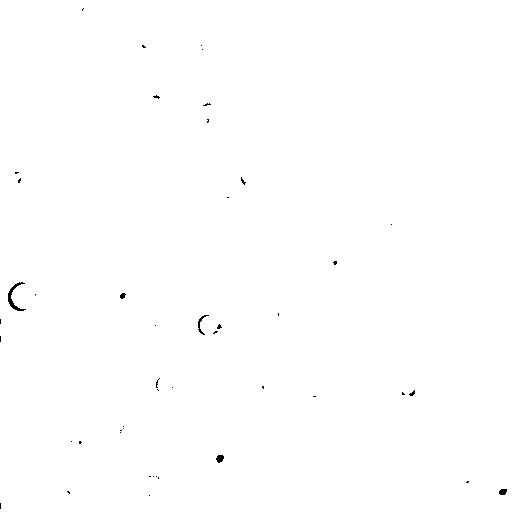micro-algae: (389, 368, 424, 403), (168, 15, 202, 51), (48, 31, 85, 64), (105, 276, 139, 310), (7, 281, 39, 313), (204, 438, 235, 469), (297, 259, 327, 290), (482, 473, 511, 505), (455, 61, 487, 89), (214, 175, 242, 207), (303, 381, 333, 409), (129, 30, 159, 57), (275, 297, 300, 325), (453, 461, 478, 489), (320, 246, 345, 271), (197, 312, 222, 337), (497, 71, 512, 112), (62, 471, 85, 497), (249, 369, 271, 395), (195, 110, 217, 135), (16, 55, 37, 81), (275, 384, 301, 405), (198, 98, 221, 121), (69, 1, 93, 23), (144, 474, 165, 499), (439, 0, 479, 13), (371, 89, 397, 109), (440, 135, 467, 153), (379, 219, 401, 241), (237, 166, 255, 191), (201, 35, 219, 59), (155, 373, 176, 393), (334, 463, 355, 483), (108, 415, 125, 438), (7, 169, 23, 187), (1, 317, 12, 343), (153, 313, 168, 332), (81, 261, 96, 277), (2, 499, 19, 512), (136, 311, 149, 327), (69, 437, 85, 449), (148, 0, 168, 9)
